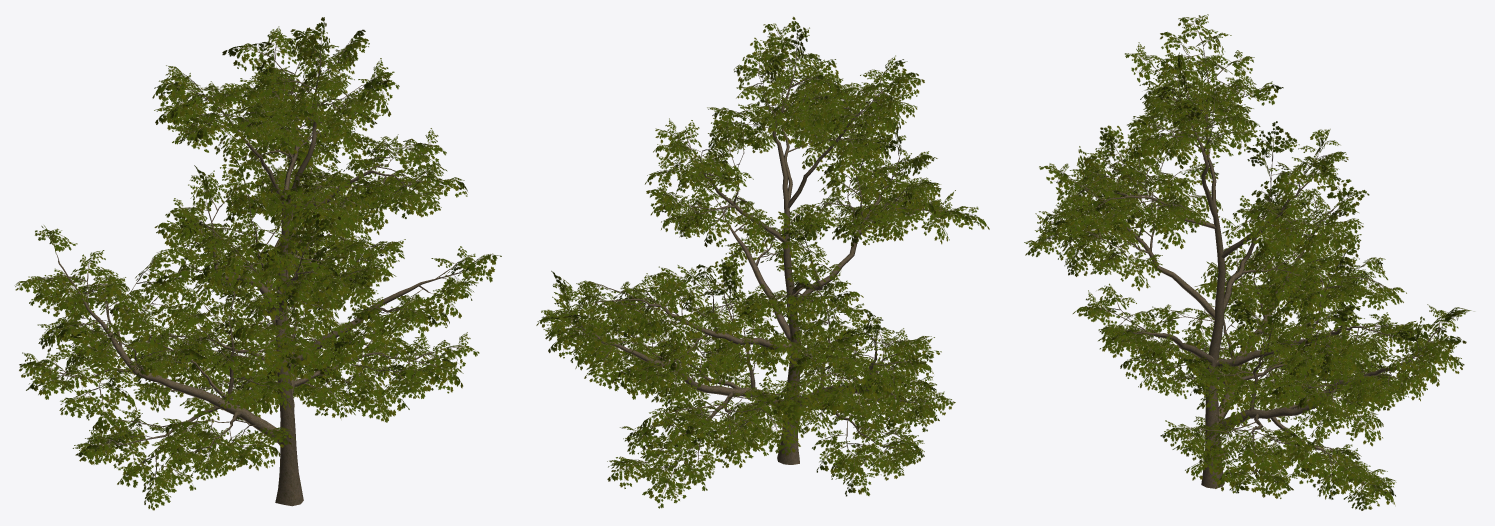
File: tree_chestnut.glb
The picture shows the model from 3 angles, left to right: view 1: azimuth 30°, elevation 25°; view 2: azimuth 150°, elevation 25°; view 3: azimuth 270°, elevation 25°; orthographic projection. The views are drawn at different scales.
Parts seen in each view (by area): view 1: Acer_large_1_LOD0_Cluster_Mat_0, Acer_large_1_LOD0_Bark_Mat_0; view 2: Acer_large_1_LOD0_Cluster_Mat_0, Acer_large_1_LOD0_Bark_Mat_0; view 3: Acer_large_1_LOD0_Cluster_Mat_0, Acer_large_1_LOD0_Bark_Mat_0.
Part boxes in pixels (bbox=[...]): Acer_large_1_LOD0_Cluster_Mat_0: bbox=[15, 17, 501, 510]; Acer_large_1_LOD0_Bark_Mat_0: bbox=[52, 59, 458, 506]; Acer_large_1_LOD0_Cluster_Mat_0: bbox=[536, 16, 989, 508]; Acer_large_1_LOD0_Bark_Mat_0: bbox=[565, 54, 946, 471]; Acer_large_1_LOD0_Cluster_Mat_0: bbox=[1024, 14, 1474, 510]; Acer_large_1_LOD0_Bark_Mat_0: bbox=[1063, 42, 1440, 488].
Size of the model in its own units: 14.39 by 16 by 15.18.
2 materials, 2 textured.
